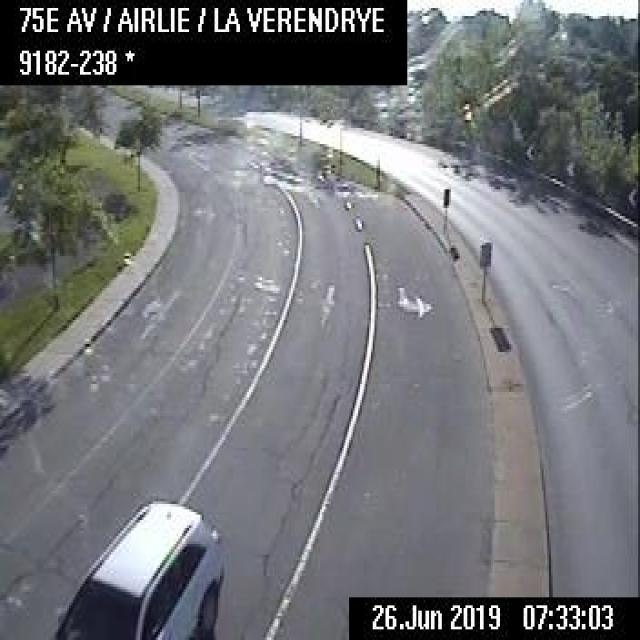vehicle: (52, 493, 224, 638)
